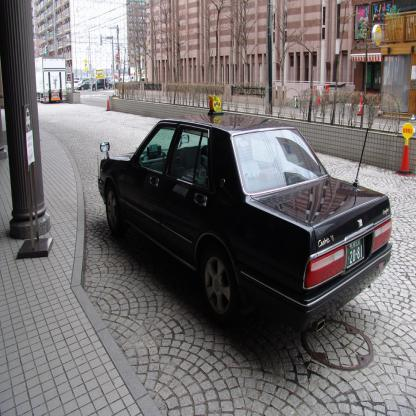Car: (98, 120, 392, 328)
